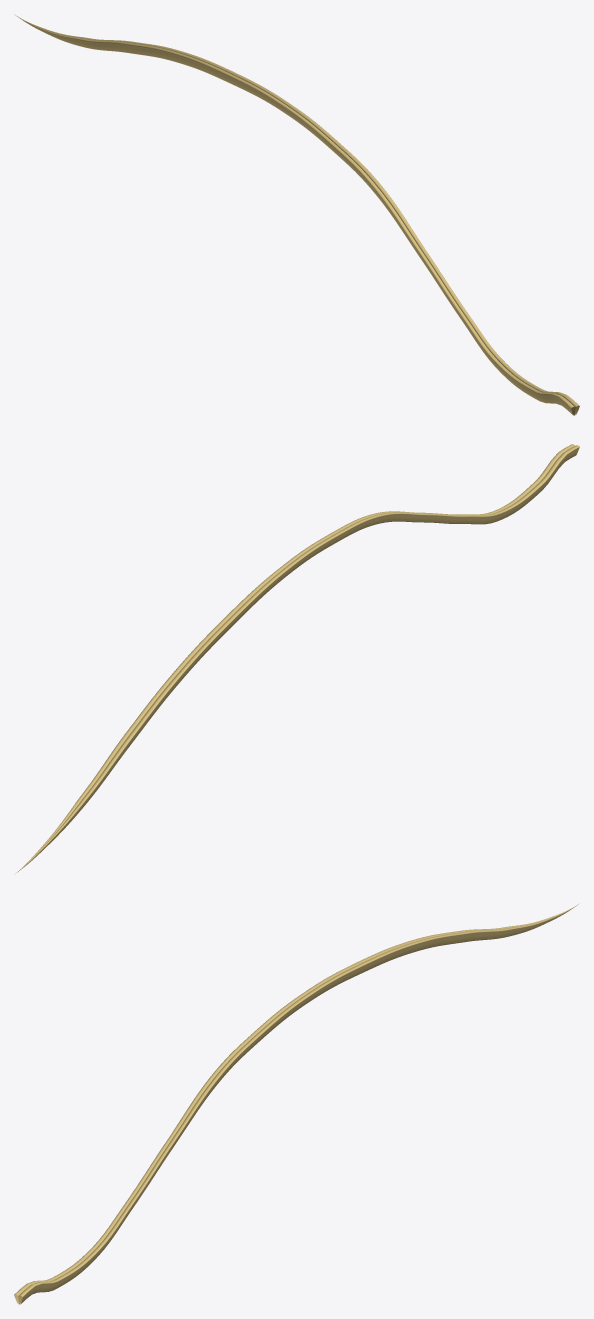
The picture shows the model from 3 angles, top to bottom: view 1: azimuth 30°, elevation 25°; view 2: azimuth 150°, elevation 25°; view 3: azimuth 330°, elevation 25°; orthographic projection.
Visible parts, largest first — view 1: 薄束; view 2: 薄束; view 3: 薄束.
Part boxes in pixels (bbox=[...]): 薄束: bbox=[14, 14, 579, 415]; 薄束: bbox=[14, 444, 579, 874]; 薄束: bbox=[14, 903, 579, 1304].
Size of the model in its own units: 0.00643 by 0.0806 by 0.7227.
